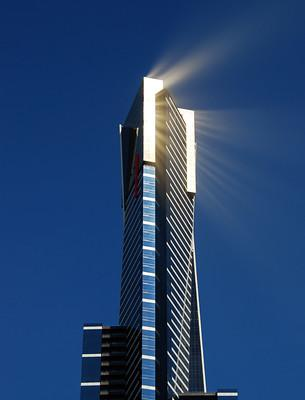building: (113, 68, 210, 400)
